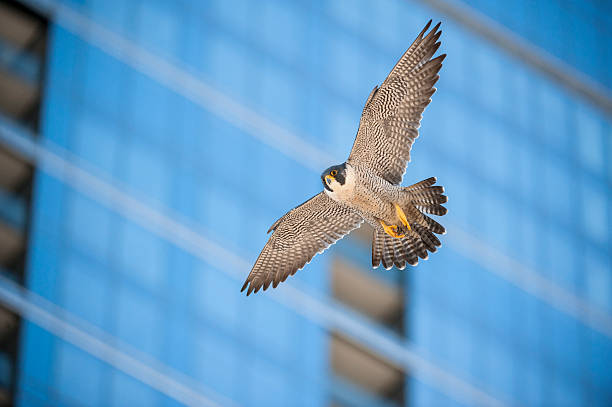Bird: (238, 17, 453, 297)
